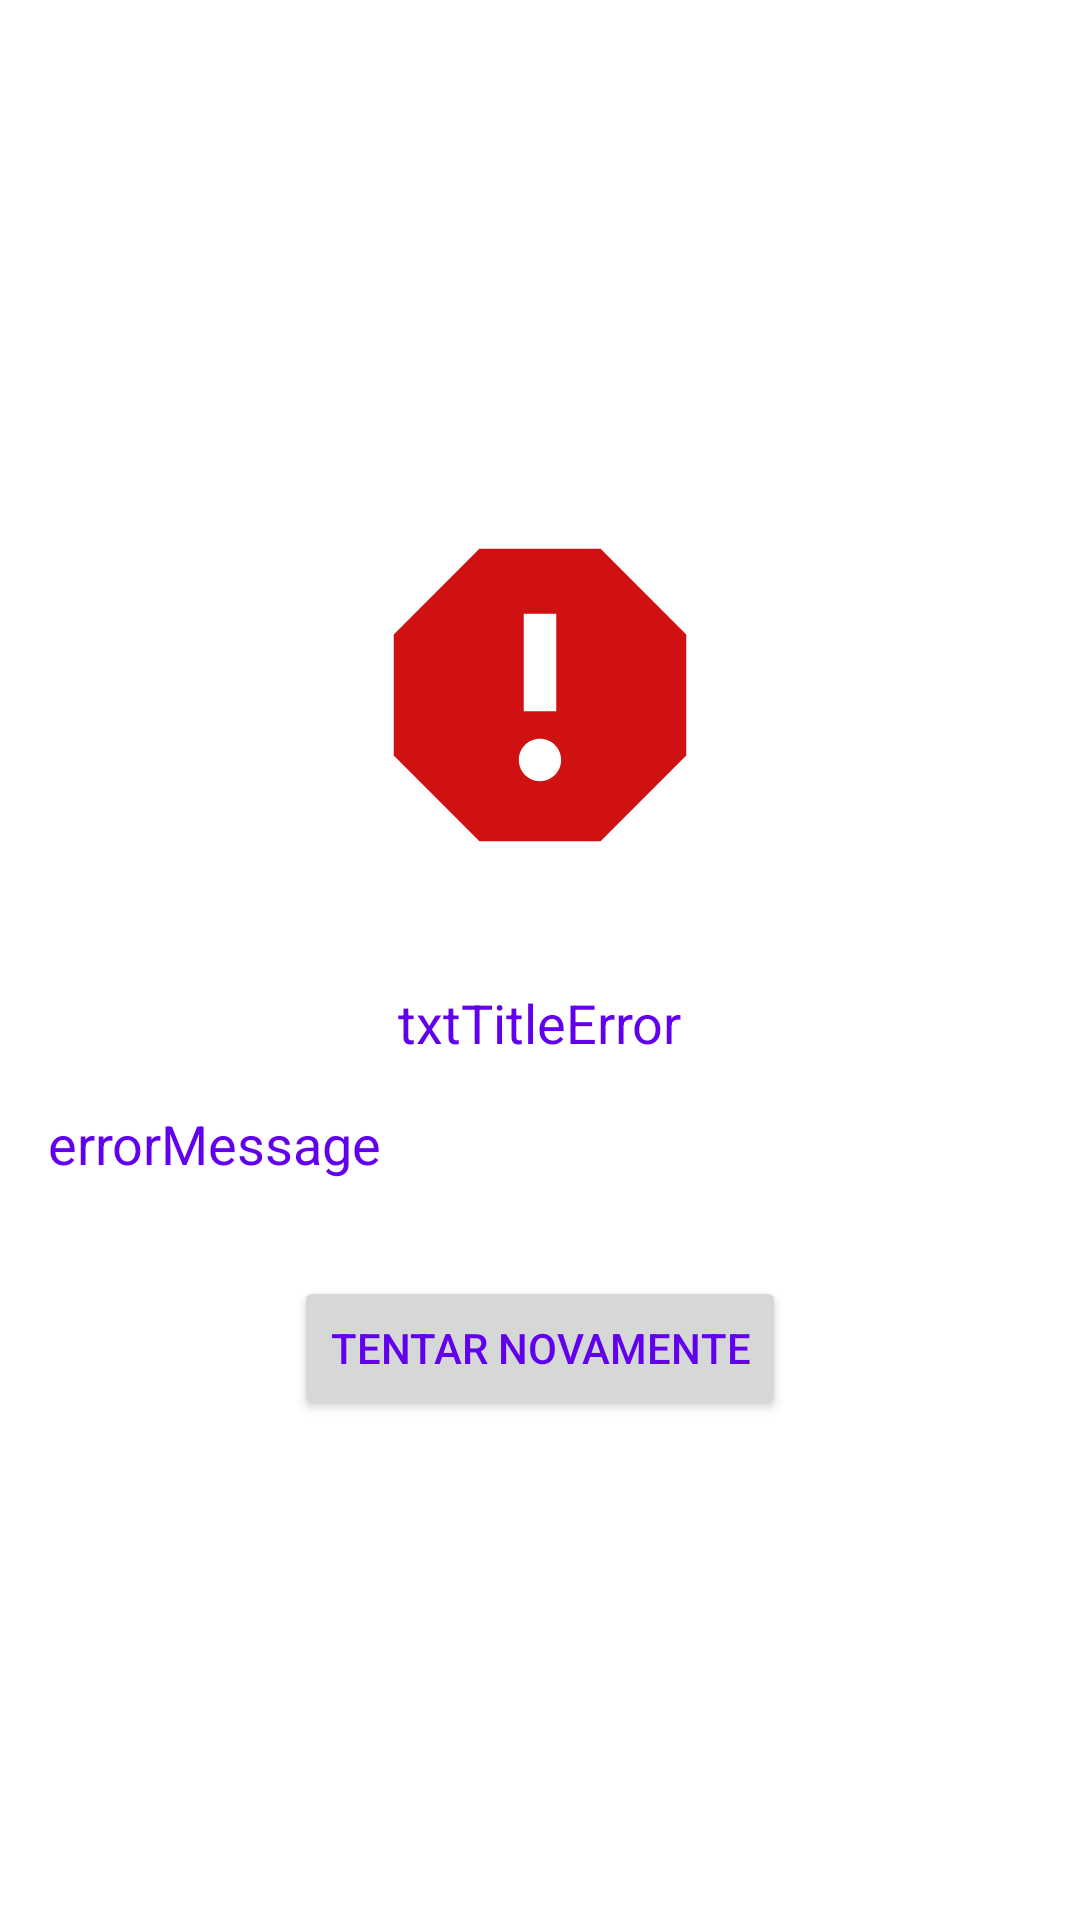

Point at icon controls on the screen. Image size 1080*1920, points as point (x, y).
report: point (540, 695)
